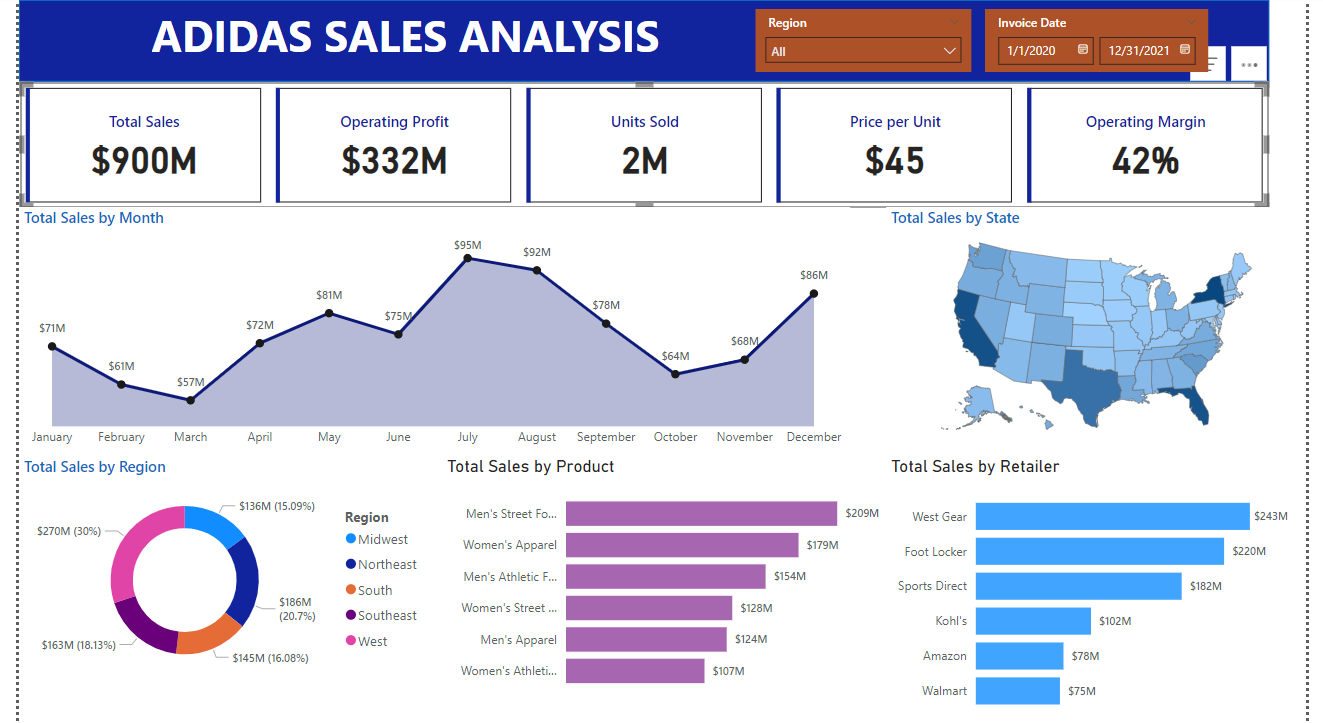

This screenshot's page, from the dashboard's own definition file:
{"tool":"powerbi","page":{"name":"Page 1","canvas":[1280,720],"ordinal":0},"visuals":[{"type":"shape","box":[0,0,1243.5,81.3],"z":0},{"type":"textbox","box":[126.6,0,589.6,81.3],"z":1000},{"type":"cardVisual","fields":{"Data":["Sum(Data Sales Adidas.Total Sales)","Sum(Data Sales Adidas.Operating Profit)","Sum(Data Sales Adidas.Units Sold)","Avg(Data Sales Adidas.Price per Unit)","Avg(Data Sales Adidas.Operating Margin)"]},"box":[1.5,81.8,1241.6,124.2],"z":2000},{"type":"areaChart","fields":{"Category":["Data Sales Adidas.Invoice Date.Variation.Date Hierarchy.Month"],"Y":["Sum(Data Sales Adidas.Total Sales)"]},"box":[0,205.9,826.8,246.8],"z":3000},{"type":"shapeMap","title":"Total Sales by State","fields":{"Category":["Data Sales Adidas.State"],"Value":["Sum(Data Sales Adidas.Total Sales)"]},"box":[861.6,205.9,417.9,236.2],"z":4000},{"type":"donutChart","fields":{"Y":["Sum(Data Sales Adidas.Total Sales)"],"Series":["Data Sales Adidas.Region"]},"box":[0,452.7,410,226],"z":5000},{"type":"barChart","title":"Total Sales by Product","fields":{"Category":["Data Sales Adidas.Product"],"Y":["Sum(Data Sales Adidas.Total Sales)"]},"box":[420.9,452.7,440.6,243.8],"z":6000},{"type":"barChart","title":"Total Sales by Retailer","fields":{"Y":["Sum(Data Sales Adidas.Total Sales)"],"Category":["Data Sales Adidas.Retailer"]},"box":[861.6,452.7,404.3,266.5],"z":7000},{"type":"slicer","fields":{"Values":["Data Sales Adidas.Region"]},"box":[732.4,9,214.8,62.7],"z":8000},{"type":"slicer","fields":{"Values":["Data Sales Adidas.Invoice Date"]},"box":[960.7,9,222.3,62.7],"z":9000}]}

Visuals, with their boxes in screenshot pixels (x1, y1, x2, y2), scaled from the page's 1280x720 canvas onto the 1323x723 screenshot:
shape: <box>0,0,1285,82</box>
textbox: <box>131,0,740,82</box>
cardVisual - Sum(Data Sales Adidas.Total Sales) x Sum(Data Sales Adidas.Operating Profit): <box>2,82,1285,207</box>
areaChart - Data Sales Adidas.Invoice Date.Variation.Date Hierarchy.Month x Sum(Data Sales Adidas.Total Sales): <box>0,207,855,455</box>
"Total Sales by State" shapeMap: <box>891,207,1322,444</box>
donutChart - Sum(Data Sales Adidas.Total Sales) x Data Sales Adidas.Region: <box>0,455,424,682</box>
"Total Sales by Product" barChart: <box>435,455,890,699</box>
"Total Sales by Retailer" barChart: <box>891,455,1308,722</box>
slicer - Data Sales Adidas.Region: <box>757,9,979,72</box>
slicer - Data Sales Adidas.Invoice Date: <box>993,9,1223,72</box>
